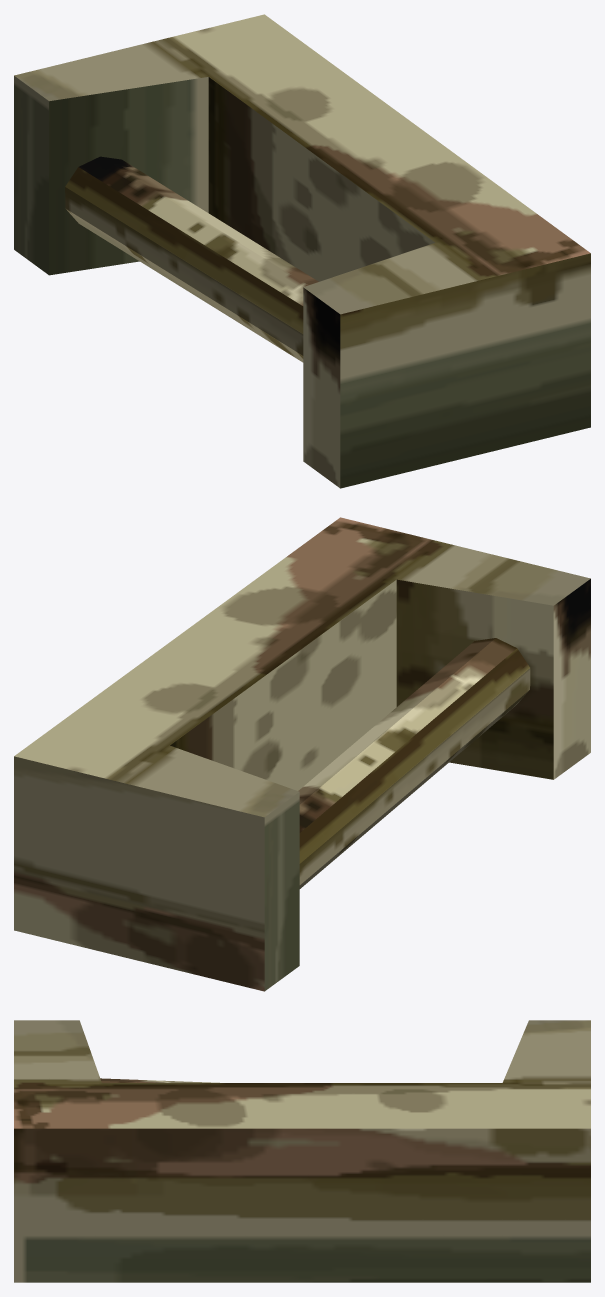
Rendered from SM_Holder.fbx.
3 renders of one model, top to bottom at view 1: azimuth 30°, elevation 25°; view 2: azimuth 150°, elevation 25°; view 3: azimuth 270°, elevation 25°, orthographic. The views are drawn at different scales.
Parts seen in each view (by area): view 1: SM_toiletpaperholder; view 2: SM_toiletpaperholder; view 3: SM_toiletpaperholder.
Boxes of the visible parts, left/top/right/bottom form: SM_toiletpaperholder: left=14, top=14, right=590, bottom=488; SM_toiletpaperholder: left=14, top=517, right=590, bottom=991; SM_toiletpaperholder: left=14, top=1020, right=590, bottom=1282.
Bounding box in the file's own units: 6.7 × 4.45 × 15.12.
